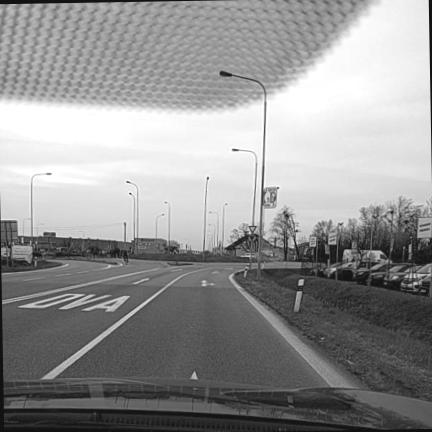Road: (2, 261, 326, 387)
